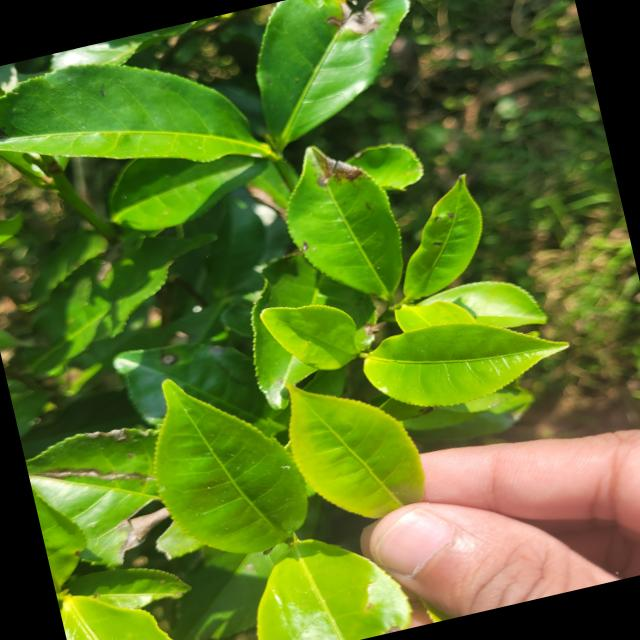Catagory A(1-2 days): (258, 352, 466, 558)
